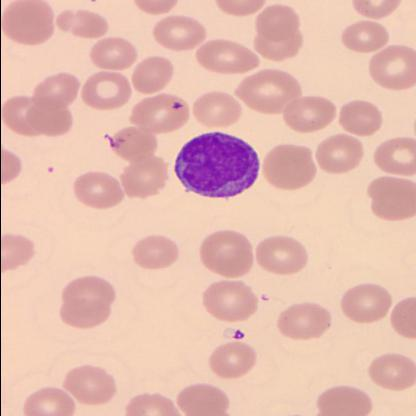Promyelocyte: (174, 132, 262, 199)
